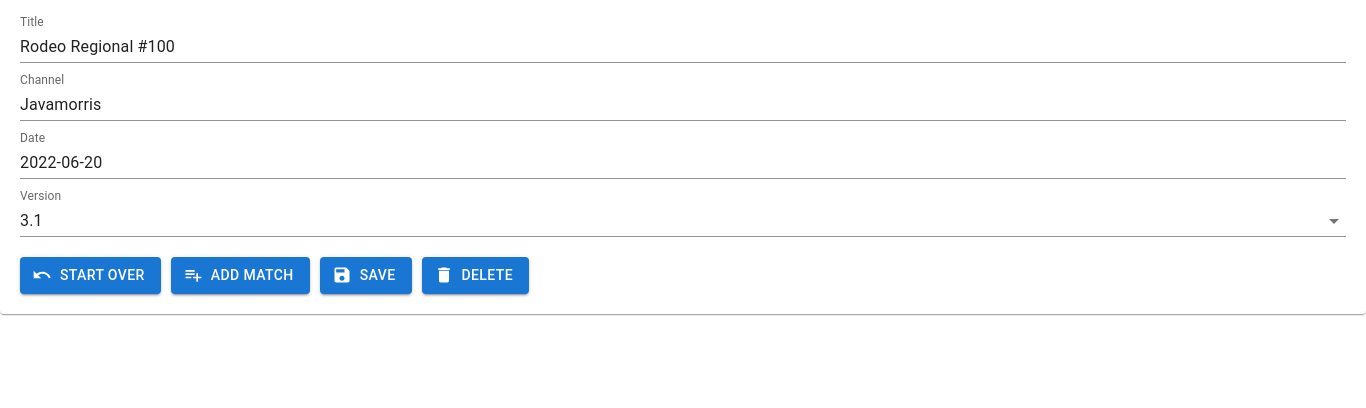
Test: Timestamps › can add and delete a timestamp
Click the button "Add Match".
click(240, 275)  # box [171,257,310,294]
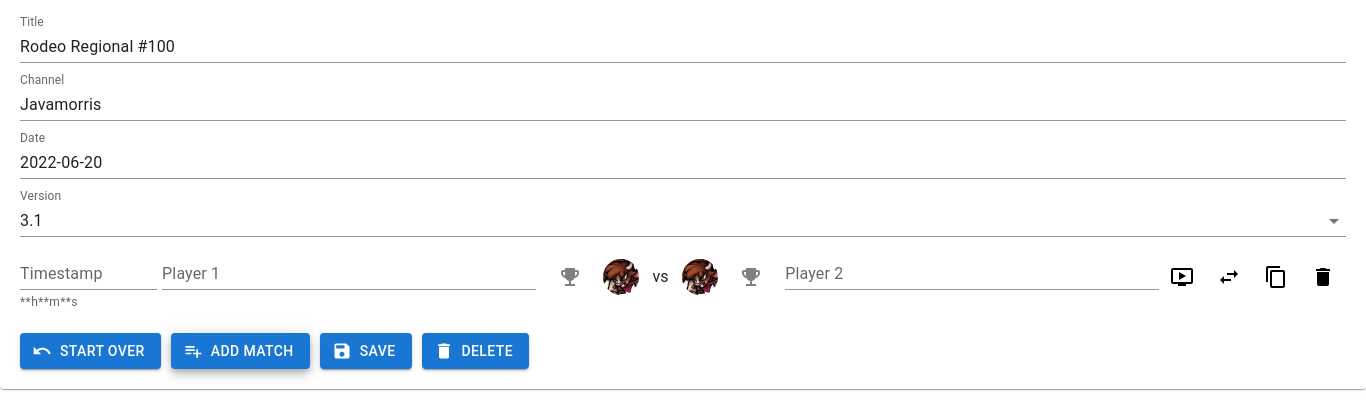
Expected: the field labelled "Timestamp" is shown, [20,258,157,290]
Click the button named "Delete".
click(1323, 278)  # box [1299,258,1346,298]
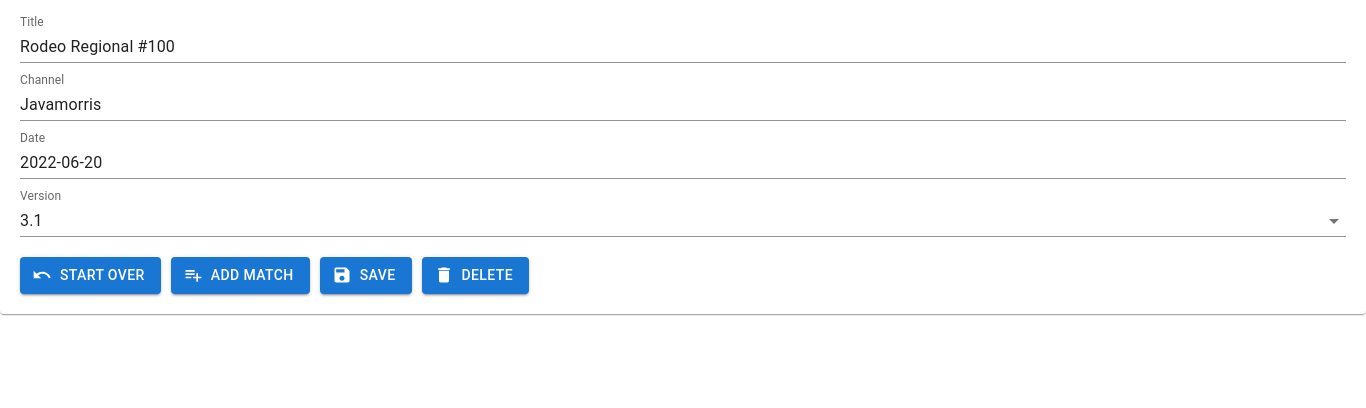
Expected: the label labelled "Timestamp" is gone
